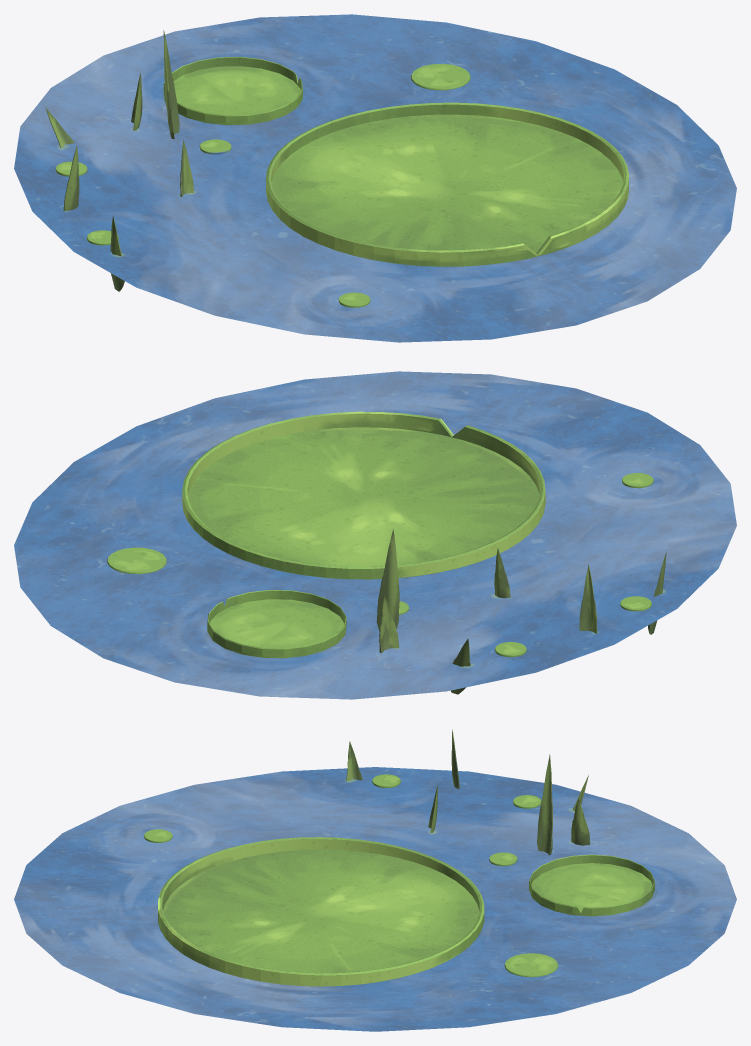
File: LilypadSmall.fbx
3 renders of one model, top to bottom at view 1: azimuth 30°, elevation 25°; view 2: azimuth 150°, elevation 25°; view 3: azimuth 270°, elevation 25°, orthographic. The views are drawn at different scales.
Visible parts, largest first — view 1: LilypadsSmall; view 2: LilypadsSmall; view 3: LilypadsSmall.
Part boxes in pixels (x1,y1,x2,y2): LilypadsSmall: (14, 14, 736, 342); LilypadsSmall: (14, 371, 736, 699); LilypadsSmall: (14, 729, 736, 1031).
Bounding box in the file's own units: 15.97 × 3.71 × 18.43.
